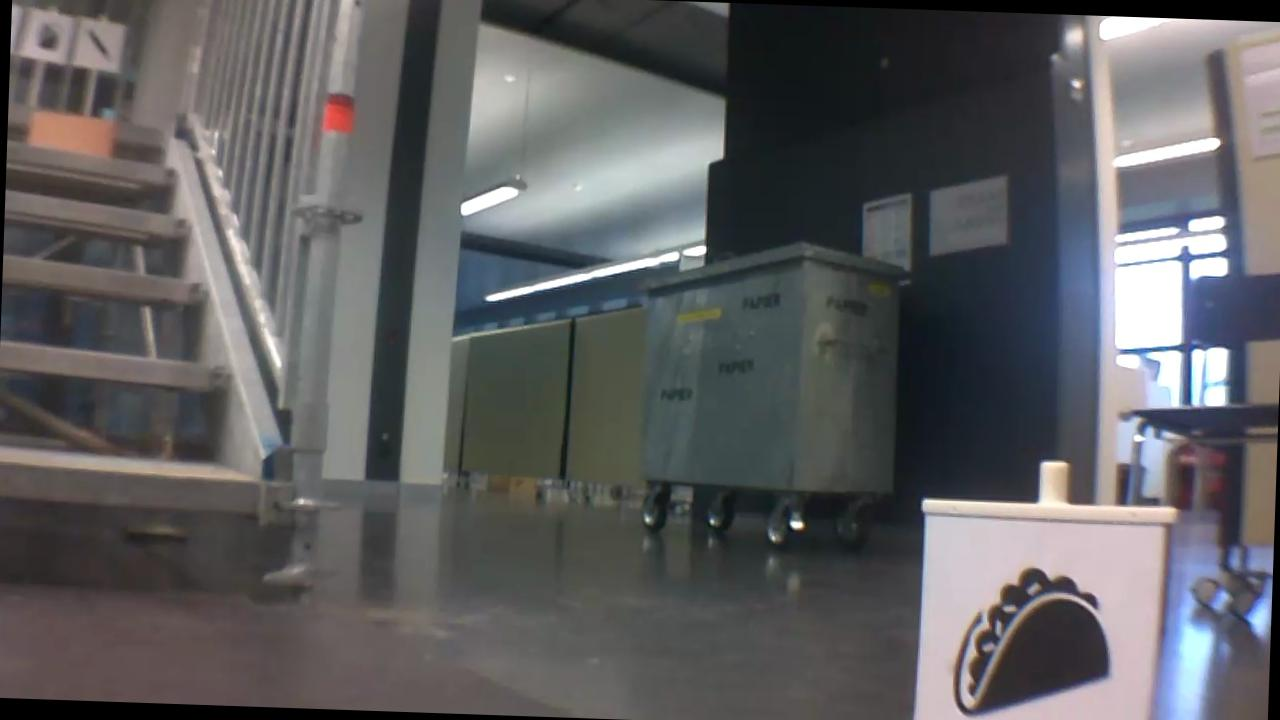brick: (30, 110, 112, 156)
bucket: (33, 17, 67, 51)
edge: (1, 253, 209, 306), (4, 191, 194, 242), (5, 144, 177, 187)
pencil: (85, 27, 113, 62)
taco: (931, 554, 1132, 720)
